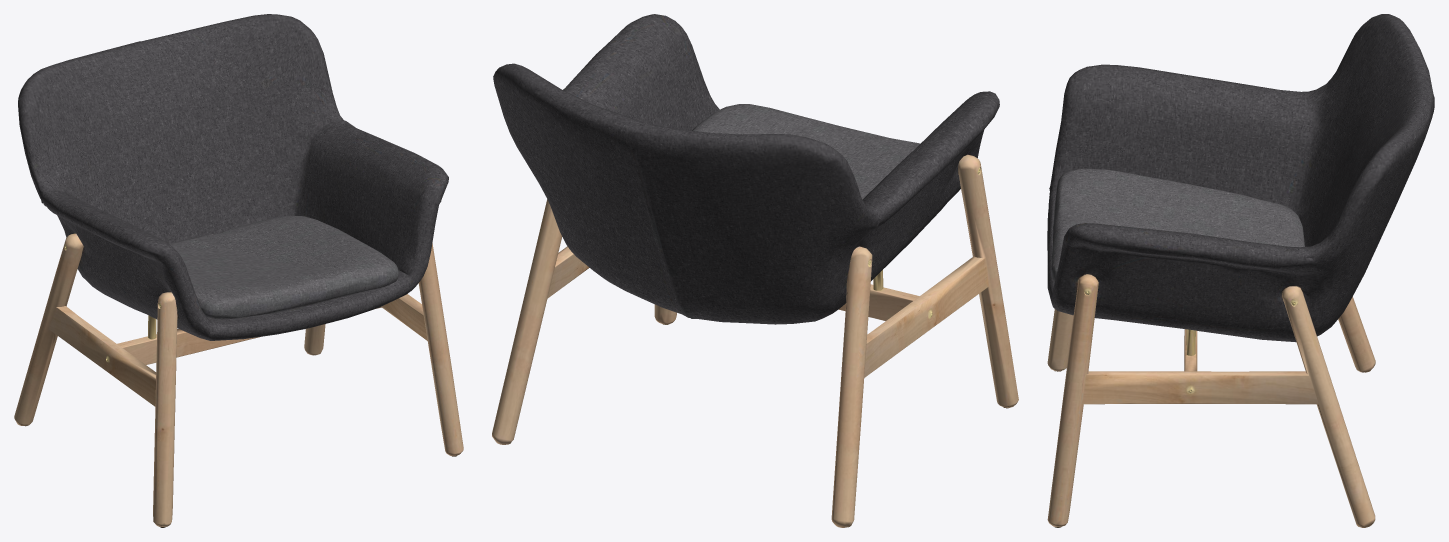
3 views of the same model, side by side, from view 1: azimuth 30°, elevation 25°; view 2: azimuth 150°, elevation 25°; view 3: azimuth 270°, elevation 25° (orthographic). The views are drawn at different scales.
Visible parts, largest first — view 1: model; view 2: model; view 3: model.
Part boxes in pixels (box(x1,y1,x2,y2)): model: box(14, 14, 463, 527); model: box(492, 14, 1018, 527); model: box(1047, 14, 1434, 527).
Bounding box in the file's own units: 0.7252 × 0.7391 × 0.7002.
1 material, 1 textured.
